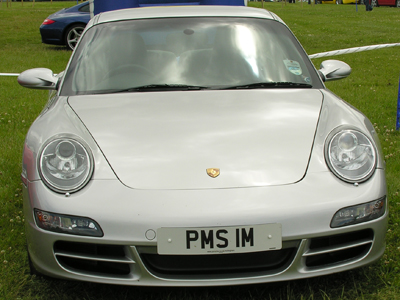licencePlate: (158, 224, 286, 253)
